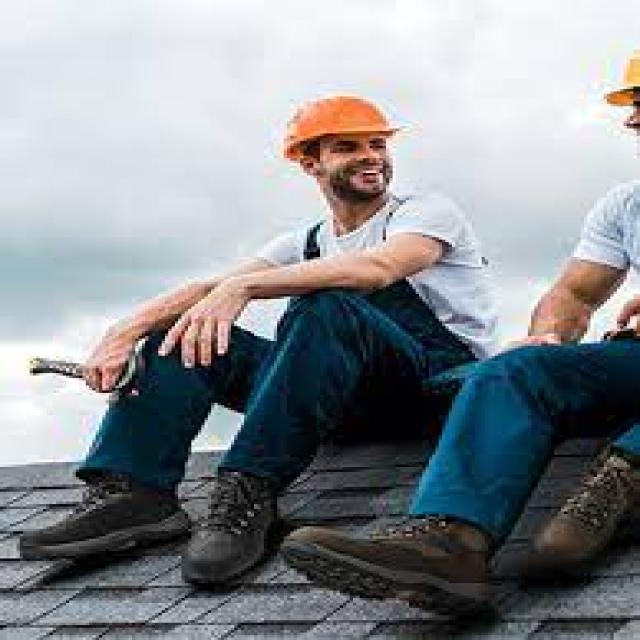shoes: (285, 508, 521, 619), (526, 447, 638, 599), (10, 489, 200, 563), (176, 471, 285, 587)
